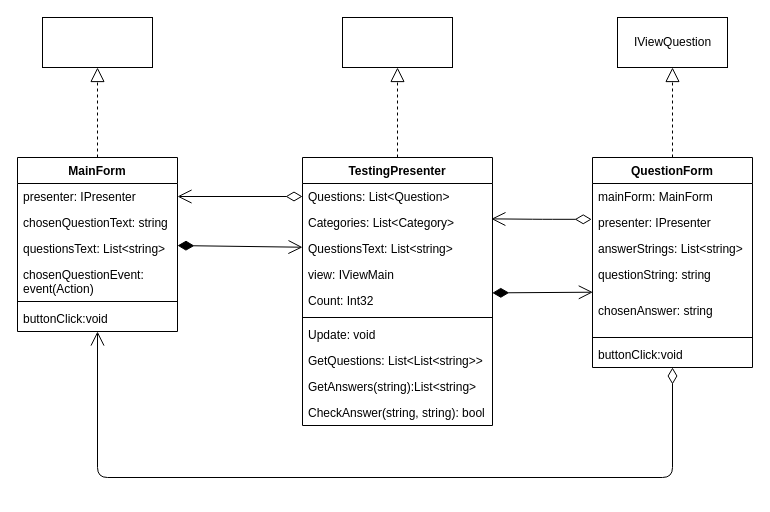
This 770x512 diagram has some shape labels left out. The shapes that lost their labels are listed below. From the top down, each one's centre as x and y in pixels, then its label:
the point at 97,42: IViewMain
the point at 397,42: IPresenter
